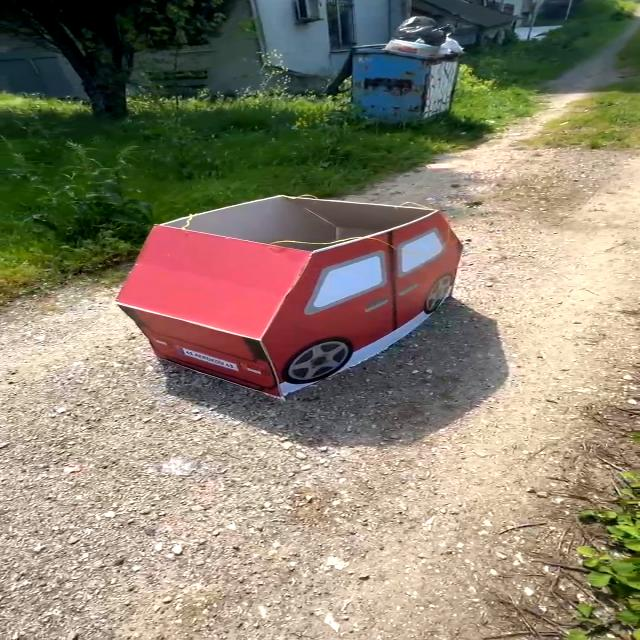red_car: (98, 166, 505, 411)
